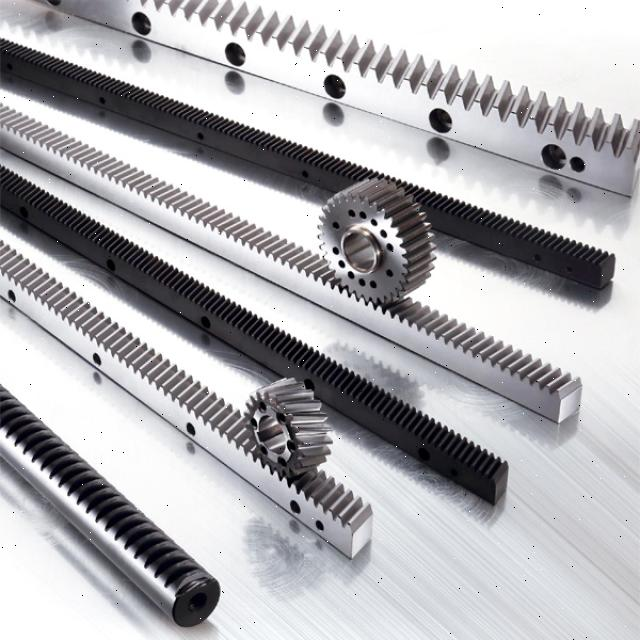Gear: (316, 178, 438, 304), (242, 376, 332, 478)
